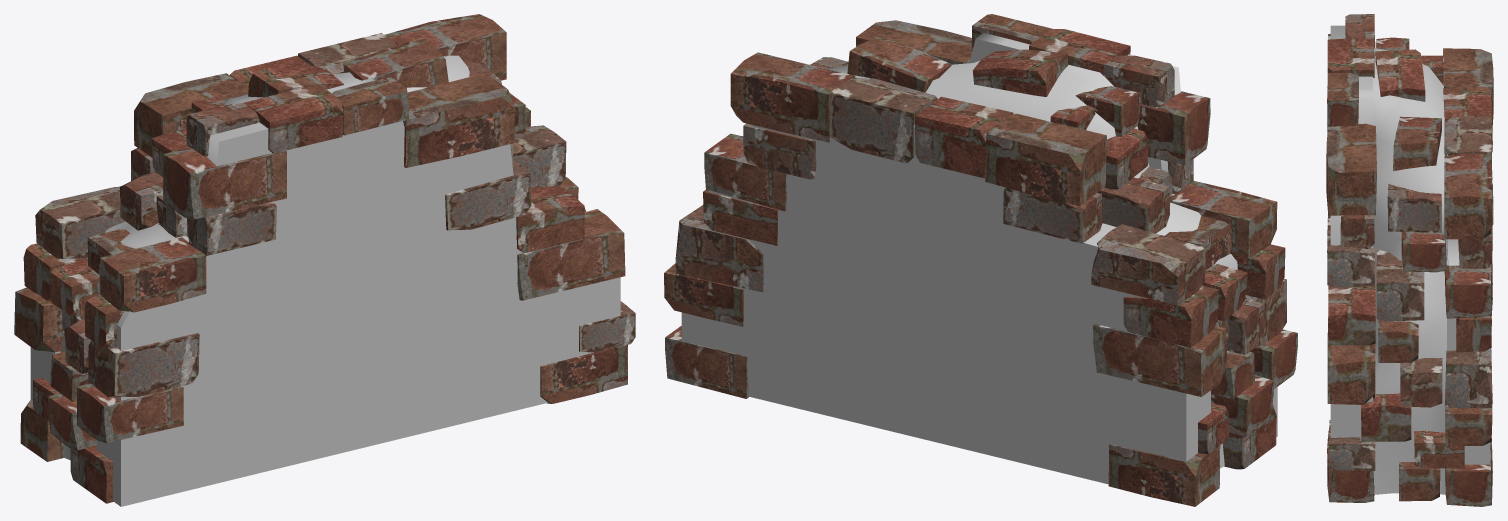
Rendered from SM_Wall_Thick_Ruined_03.fbx.
3 views of the same model, side by side, from view 1: azimuth 30°, elevation 25°; view 2: azimuth 150°, elevation 25°; view 3: azimuth 270°, elevation 25° (orthographic). The views are drawn at different scales.
Parts seen in each view (by area): view 1: SM_Wall_Thick_Ruined_03_LOD0; view 2: SM_Wall_Thick_Ruined_03_LOD0; view 3: SM_Wall_Thick_Ruined_03_LOD0.
Part boxes in pixels (box(x1,y1,x2,y2)): SM_Wall_Thick_Ruined_03_LOD0: box(14, 14, 635, 506); SM_Wall_Thick_Ruined_03_LOD0: box(664, 14, 1297, 506); SM_Wall_Thick_Ruined_03_LOD0: box(1326, 14, 1493, 506).
Size of what is drawn, in the model's own units: 431 by 273 by 132.
